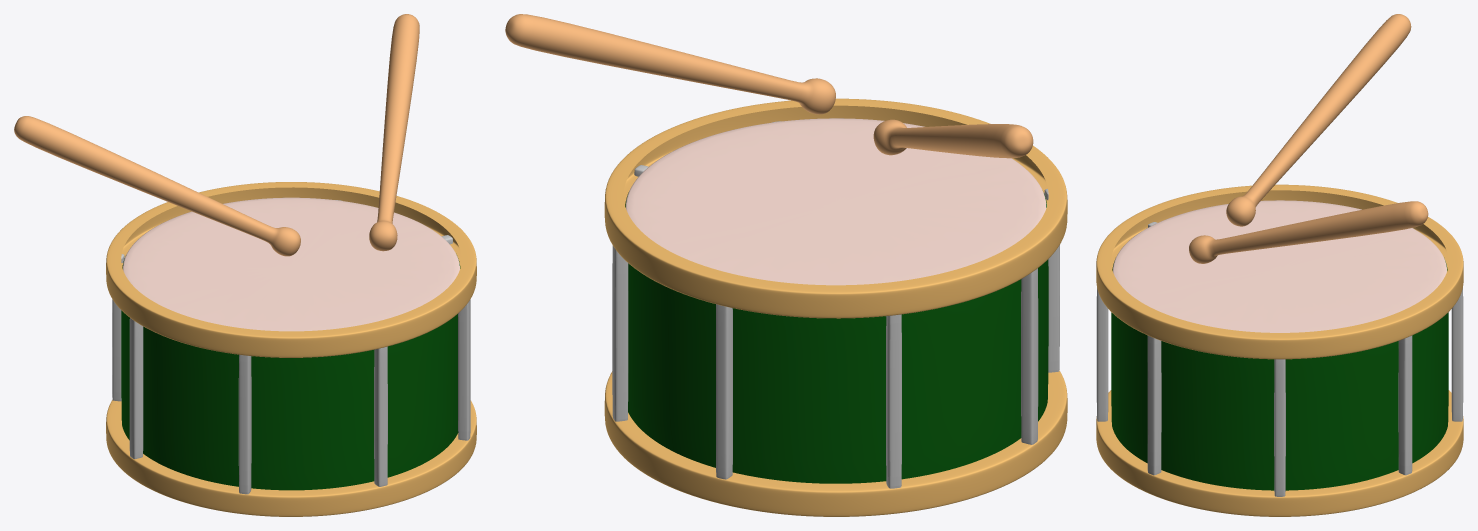
The model's file is drum.glb.
3 renders of one model, left to right at view 1: azimuth 30°, elevation 25°; view 2: azimuth 150°, elevation 25°; view 3: azimuth 270°, elevation 25°, orthographic. The views are drawn at different scales.
Visible parts, largest first — view 1: Cylinder_4, Cylinder.001_5, Cube_0, Cube.003_3, Cube.002_2, Cube.001_1; view 2: Cylinder_4, Cylinder.001_5, Cube.003_3, Cube.002_2, Cube.001_1, Cube_0; view 3: Cylinder_4, Cylinder.001_5, Cube_0, Cube.003_3, Cube.001_1, Cube.002_2.
Part boxes in pixels (x1,y1,x2,y2): Cylinder_4: (121, 197, 460, 490); Cylinder.001_5: (106, 182, 476, 516); Cube_0: (14, 116, 300, 256); Cube.003_3: (369, 14, 419, 251); Cube.002_2: (112, 200, 470, 494); Cube.001_1: (129, 235, 452, 486); Cylinder_4: (625, 118, 1048, 483); Cylinder.001_5: (604, 98, 1067, 516); Cube.003_3: (505, 14, 835, 114); Cube.002_2: (612, 121, 1059, 488); Cube.001_1: (634, 165, 1038, 479); Cube_0: (873, 119, 1033, 158); Cylinder_4: (1111, 200, 1448, 490); Cylinder.001_5: (1096, 184, 1463, 516); Cube_0: (1226, 14, 1411, 226); Cube.003_3: (1189, 201, 1428, 263); Cube.001_1: (1096, 288, 1463, 496); Cube.002_2: (1147, 222, 1412, 475).
Bounding box in the file's own units: 5.24 × 4.01 × 4.09.
